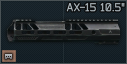AR-15 Aeroknox AX-15 10.5 inch M-LOK handguard: (0, 0, 127, 64)
